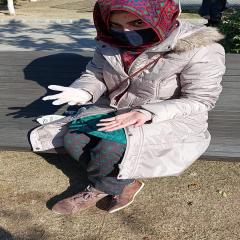gloved: (44, 86, 90, 108)
not-gloved: (96, 112, 144, 132)
